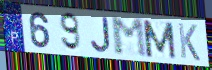6: (28, 10, 52, 50)
9: (58, 12, 82, 54)
J: (89, 16, 112, 55)
K: (176, 21, 202, 63)
M: (109, 16, 150, 59), (141, 18, 178, 61)
